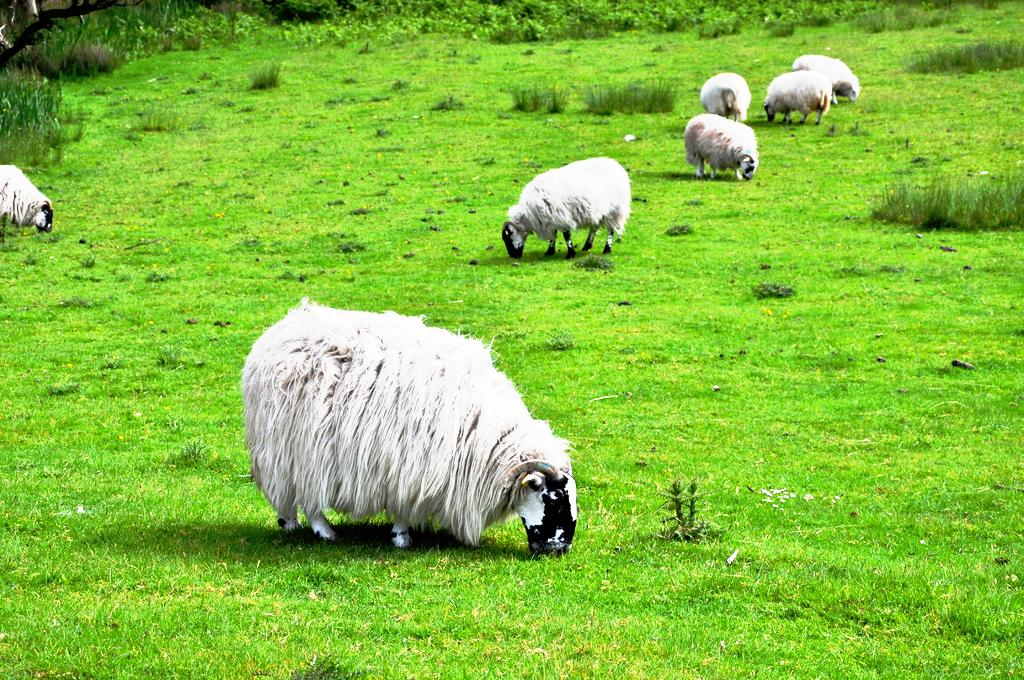Sheep: (240, 300, 577, 560), (498, 156, 632, 260), (685, 113, 761, 182), (0, 160, 52, 240), (764, 71, 832, 124), (792, 54, 856, 104), (698, 72, 754, 123)
